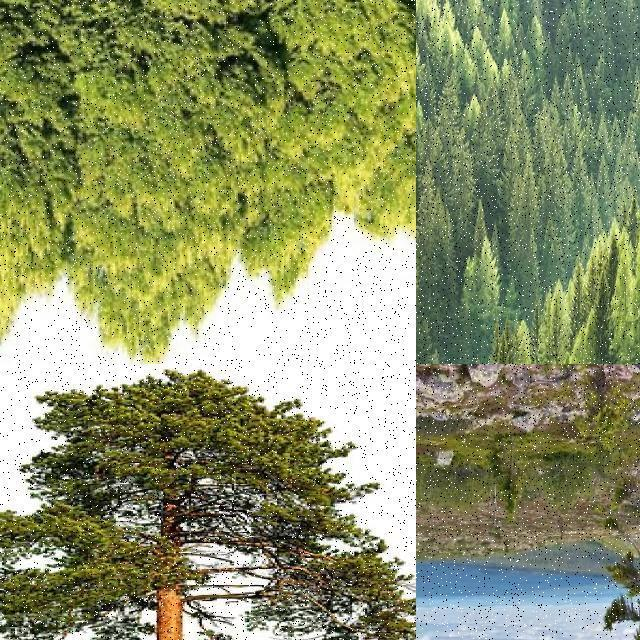tree: (0, 368, 416, 640), (63, 1, 263, 363), (0, 1, 111, 363), (245, 0, 343, 316), (336, 0, 416, 260), (0, 0, 44, 364), (416, 156, 456, 296), (464, 236, 500, 348), (612, 239, 636, 349), (416, 176, 428, 364), (518, 152, 542, 244), (542, 211, 564, 297), (569, 139, 591, 225), (499, 125, 519, 212), (522, 229, 542, 315), (416, 183, 432, 285), (416, 141, 430, 245), (553, 13, 575, 78), (595, 156, 613, 228), (567, 321, 597, 364), (632, 208, 640, 364), (615, 0, 640, 48), (416, 290, 432, 364), (594, 110, 614, 166), (417, 222, 428, 320), (416, 284, 428, 364), (472, 200, 488, 254), (496, 334, 516, 364), (468, 92, 482, 134), (416, 124, 426, 180), (416, 78, 424, 136), (426, 344, 446, 364)
